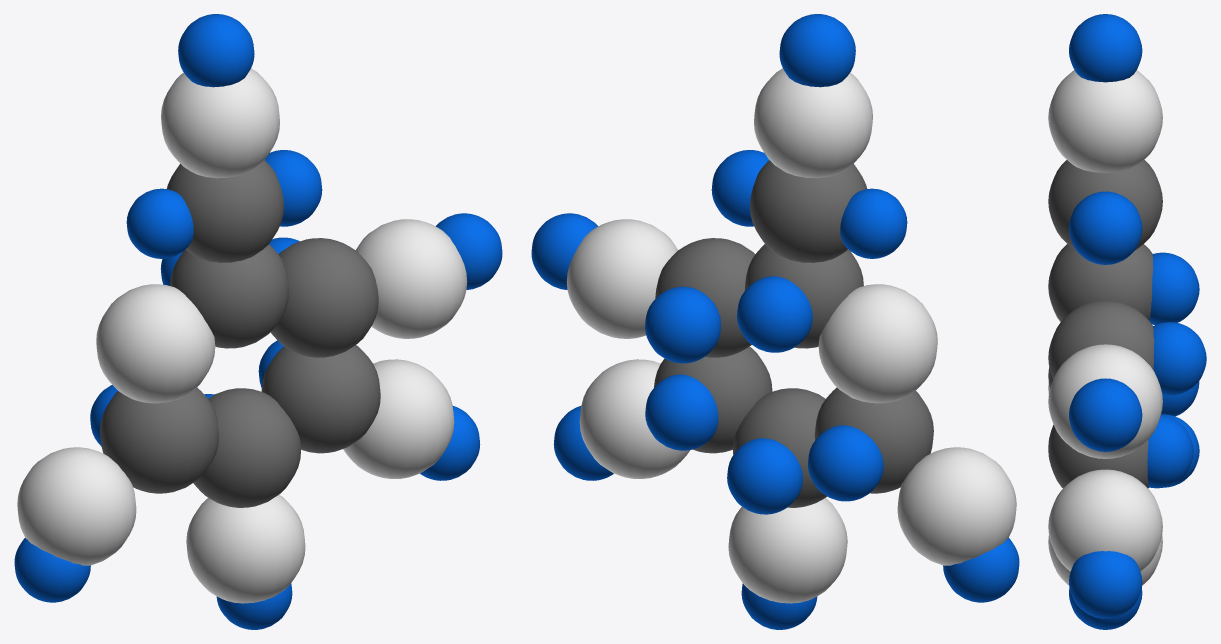
Rendered from glucmol.fbx.
3 renders of one model, left to right at view 1: azimuth 30°, elevation 25°; view 2: azimuth 150°, elevation 25°; view 3: azimuth 270°, elevation 25°, orthographic. The views are drawn at different scales.
Visible parts, largest first — view 1: Oxygen7, Oxygen8, Oxygen9, Oxygen, carbon3, Oxygen11, carbon5, carbon4, carbon6, Oxygen10, carbon2, carbon1 (+8 smaller); view 2: Oxygen7, Oxygen8, Oxygen, Oxygen9, Oxygen11, carbon1, Oxygen10, carbon5, carbon3, carbon4, carbon6, carbon2 (+12 smaller); view 3: Oxygen, Oxygen10, Oxygen11, carbon2, carbon1, carbon3, Hydrogen3, Hydrogen4, Hydrogen1, Hydrogen5, Hydrogen9, Hydrogen12 (+6 smaller).
Boxes of the visible parts, <box> form: Oxygen7: <box>96,284,215,403</box>; Oxygen8: <box>17,447,136,565</box>; Oxygen9: <box>186,495,305,603</box>; Oxygen: <box>161,68,279,178</box>; carbon3: <box>270,238,378,357</box>; Oxygen11: <box>356,219,467,338</box>; carbon5: <box>100,387,219,493</box>; carbon4: <box>261,345,380,453</box>; carbon6: <box>193,388,300,507</box>; Oxygen10: <box>343,359,454,478</box>; carbon2: <box>170,244,289,348</box>; carbon1: <box>166,160,283,262</box>; Oxygen7: <box>818,284,937,403</box>; Oxygen8: <box>897,447,1016,565</box>; Oxygen: <box>754,68,872,178</box>; Oxygen9: <box>728,498,847,603</box>; Oxygen11: <box>566,219,677,338</box>; carbon1: <box>750,160,867,262</box>; Oxygen10: <box>579,359,689,478</box>; carbon5: <box>814,387,933,493</box>; carbon3: <box>655,238,755,357</box>; carbon4: <box>654,346,772,453</box>; carbon6: <box>733,388,826,507</box>; carbon2: <box>744,244,863,348</box>; Oxygen: <box>1048,70,1162,172</box>; Oxygen10: <box>1048,469,1162,571</box>; Oxygen11: <box>1048,344,1162,458</box>; carbon2: <box>1048,244,1153,321</box>; carbon1: <box>1048,160,1162,250</box>; carbon3: <box>1048,300,1154,379</box>; Hydrogen3: <box>1069,378,1142,451</box>; Hydrogen4: <box>1069,191,1142,264</box>; Hydrogen1: <box>1069,14,1142,82</box>; Hydrogen5: <box>1069,551,1142,618</box>; Hydrogen9: <box>1153,322,1206,395</box>; Hydrogen12: <box>1149,252,1199,325</box>.
Size of the model in its own units: 13.71 by 16.93 by 4.11.
